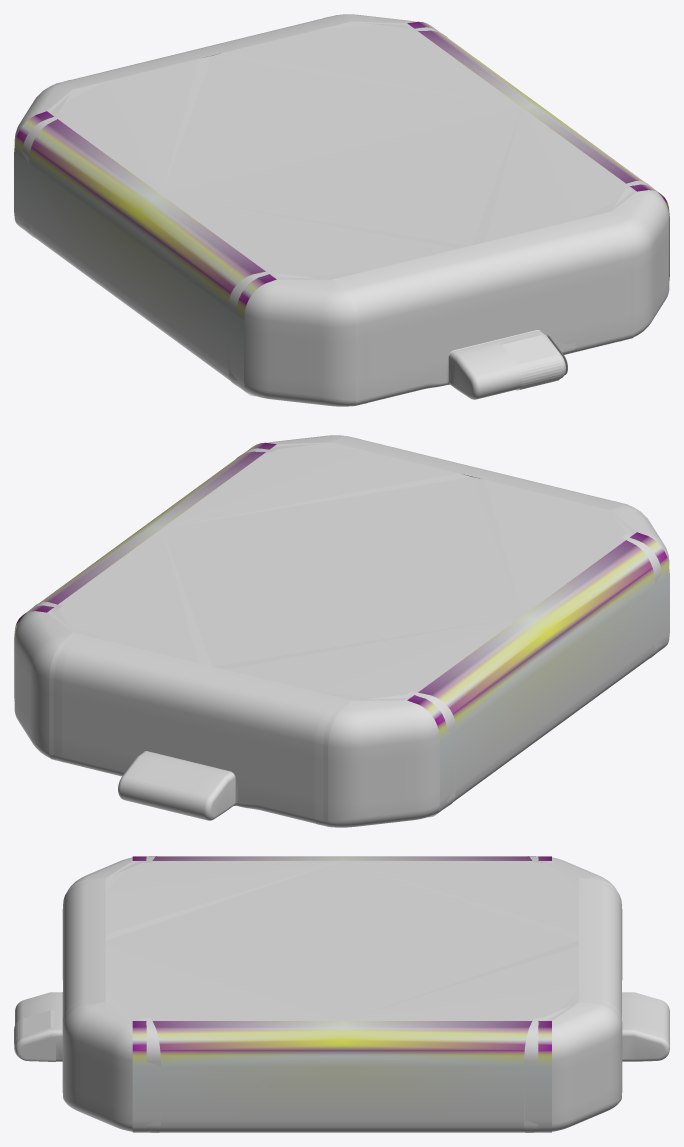
The model's file is RLCollisionMap.fbx.
The picture shows the model from 3 angles, top to bottom: view 1: azimuth 30°, elevation 25°; view 2: azimuth 150°, elevation 25°; view 3: azimuth 270°, elevation 25°; orthographic projection. The views are drawn at different scales.
Parts seen in each view (by area): view 1: 05.002, 03, 02, 06; view 2: 05.002, 03, 02; view 3: 05.002, 02, 03, 06.
Part boxes in pixels (x1,y1,x2,y2): 05.002: (14,21,669,396); 03: (56,15,634,406); 02: (14,14,669,406); 06: (500,330,575,390); 05.002: (14,442,669,817); 03: (49,436,627,827); 02: (14,435,669,827); 05.002: (105,856,578,1132); 02: (62,856,622,1132); 03: (15,878,669,1101); 06: (14,1010,55,1061).
Size of the model in its own units: 8215 by 2093 by 12015.
